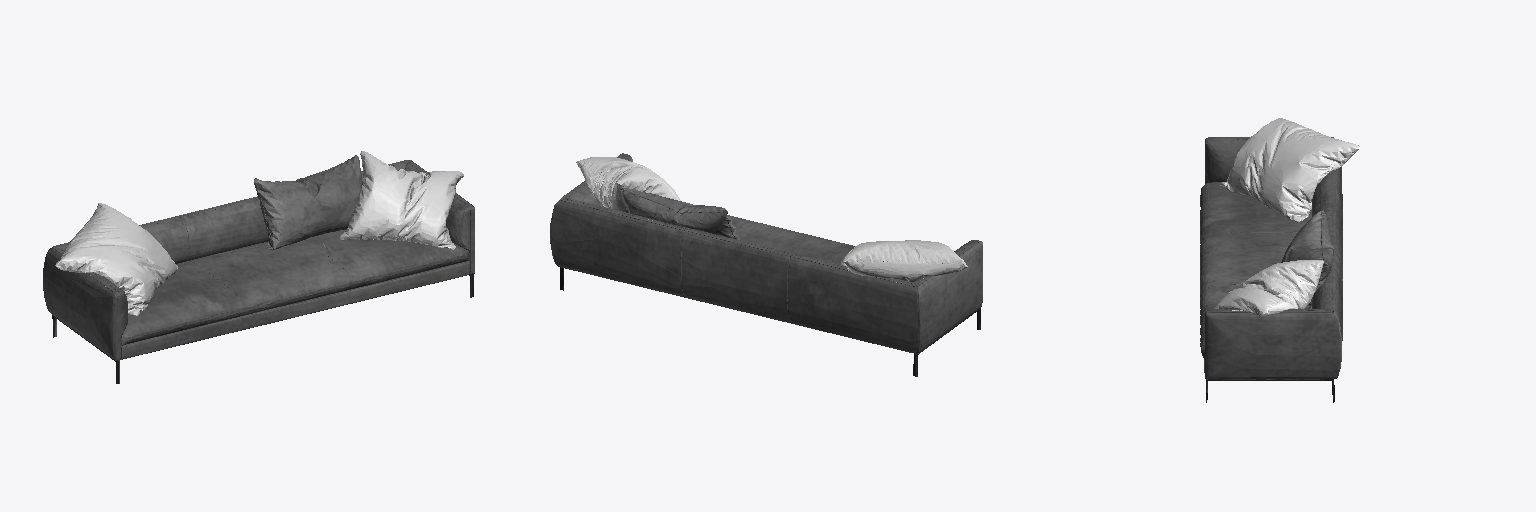
3 renders of one model, left to right at view 1: azimuth 30°, elevation 25°; view 2: azimuth 150°, elevation 25°; view 3: azimuth 270°, elevation 25°, orthographic.
Visible parts, largest first — view 1: solid_001, solid_003; view 2: solid_001, solid_003; view 3: solid_001, solid_003.
Boxes of the visible parts, <box> form: solid_001: <box>43,155,474,360</box>; solid_003: <box>55,151,463,315</box>; solid_001: <box>550,153,982,353</box>; solid_003: <box>576,157,967,282</box>; solid_001: <box>1200,137,1342,379</box>; solid_003: <box>1214,118,1359,315</box>.
Size of the model in its own units: 3.11 by 0.8623 by 1.07.
Materials: 1 (1 with a texture image).